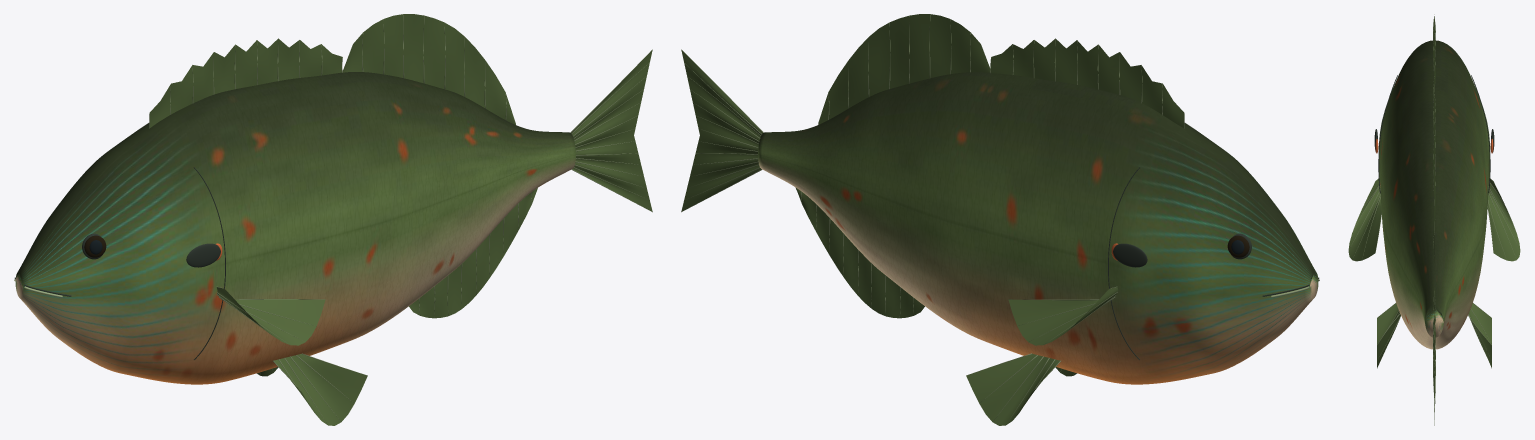
Rendered from pumpkinseed.glb.
3 views of the same model, side by side, from view 1: azimuth 30°, elevation 25°; view 2: azimuth 150°, elevation 25°; view 3: azimuth 270°, elevation 25° (orthographic). The views are drawn at different scales.
Parts seen in each view (by area): view 1: pumpkinseed specimen.001; view 2: pumpkinseed specimen.001; view 3: pumpkinseed specimen.001.
Boxes of the visible parts, bbox=[...] form: pumpkinseed specimen.001: bbox=[14, 14, 652, 425]; pumpkinseed specimen.001: bbox=[681, 14, 1319, 425]; pumpkinseed specimen.001: bbox=[1348, 14, 1520, 425].
Size of the model in its own units: 2.2 by 1.24 by 0.6075.
9 materials, 3 textured.
